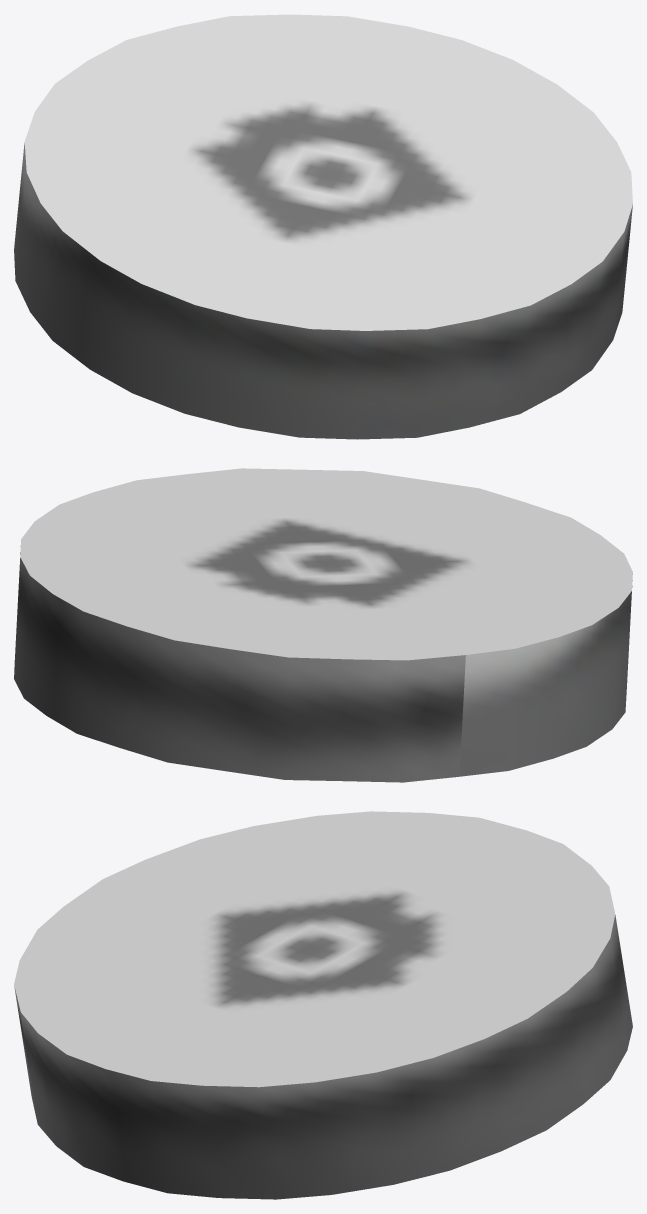
3 views of the same model, one above another, from view 1: azimuth 30°, elevation 25°; view 2: azimuth 150°, elevation 25°; view 3: azimuth 270°, elevation 25° (orthographic).
Size of the model in its own units: 0.00822 by 0.00279 by 0.00834.
Materials: 1 (1 with a texture image).
